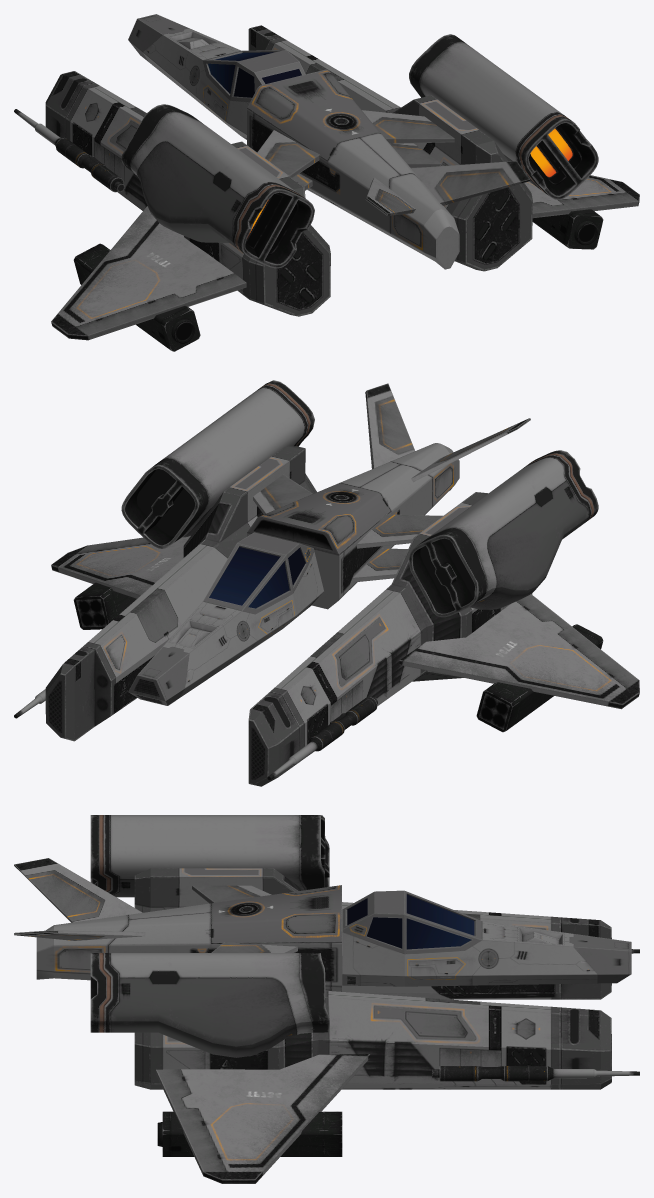
File: battleship1.gltf
3 views of the same model, one above another, from view 1: azimuth 30°, elevation 25°; view 2: azimuth 150°, elevation 25°; view 3: azimuth 270°, elevation 25° (orthographic).
Parts seen in each view (by area): view 1: Engine1-1, MainBody2, MainBody13-1, Engine1-2, Wing6-1, MainBody13-2, Cockpit3_WithoutInterior, Wing2-6, Wing6-2, Big_Launcher-1, Wing2-2, Big_Launcher-2 (+5 smaller); view 2: MainBody13-1, MainBody13-2, Engine1-1, Cockpit3_WithoutInterior, Engine1-2, Wing6-1, MainBody2, Wing6-2, Wing2-6, Big_Launcher-1, Big_Launcher-2, Wing2-1 (+4 smaller); view 3: MainBody13-2, Engine1-2, Cockpit3_WithoutInterior, Wing6-2, MainBody2, Engine1-1, MainBody13-1, Wing2-5, Big_Launcher-2, Blaster-2, Wing2-1, Wing2-6 (+1 smaller).
Boxes of the visible parts, x1,y1,x2,y2 form: Engine1-1: (121,104,314,268); MainBody2: (247,69,459,269); MainBody13-1: (45,71,330,316); Engine1-2: (409,34,598,199); Wing6-1: (51,206,246,340); MainBody13-2: (248,25,532,271); Cockpit3_WithoutInterior: (128,14,305,139); Wing2-6: (411,161,530,205); Wing6-2: (524,175,639,218); Big_Launcher-1: (73,243,200,351); Wing2-2: (362,110,454,143); Big_Launcher-2: (532,209,603,249); MainBody13-1: (248,492,532,786); MainBody13-2: (45,446,316,741); Engine1-1: (409,450,598,617); Cockpit3_WithoutInterior: (128,532,324,705); Engine1-2: (121,380,314,548); Wing6-1: (399,594,639,709); MainBody2: (247,443,459,609); Wing6-2: (51,536,190,598); Wing2-6: (365,383,414,468); Big_Launcher-1: (476,624,603,732); Big_Launcher-2: (73,582,136,629); Wing2-1: (357,514,442,548); MainBody13-2: (134,990,611,1089); Engine1-2: (90,953,329,1057); Cockpit3_WithoutInterior: (342,890,631,986); Wing6-2: (156,1054,370,1183); MainBody2: (36,885,341,991); Engine1-1: (90,815,329,897); MainBody13-1: (134,868,611,999); Wing2-5: (14,858,142,922); Big_Launcher-2: (157,1111,342,1156); Blaster-2: (432,1066,639,1081); Wing2-1: (192,885,271,903); Wing2-6: (14,930,145,940).
Size of the model in its own units: 13.02 by 3.74 by 12.49.
9 materials, 9 textured.
